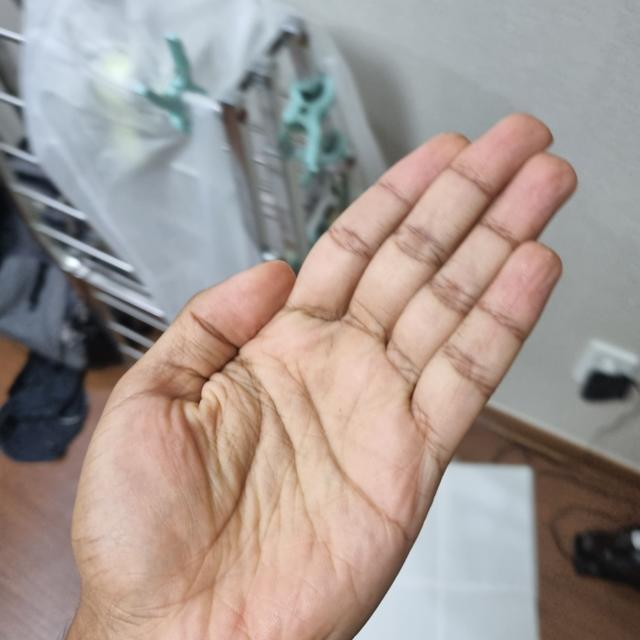Paper: (18, 112, 574, 639)
